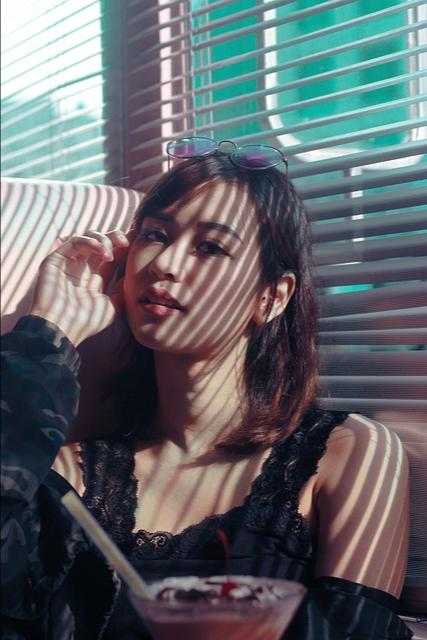Non_Gorille: (10, 139, 427, 640)
